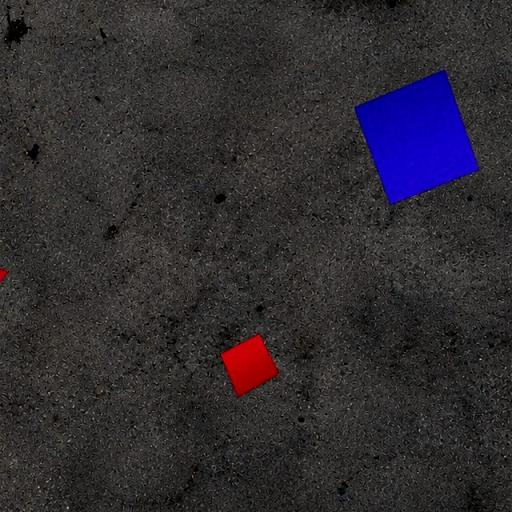BLUE_SQUARE: (353, 70, 480, 206)
RED_SQUARE: (219, 333, 280, 398)
